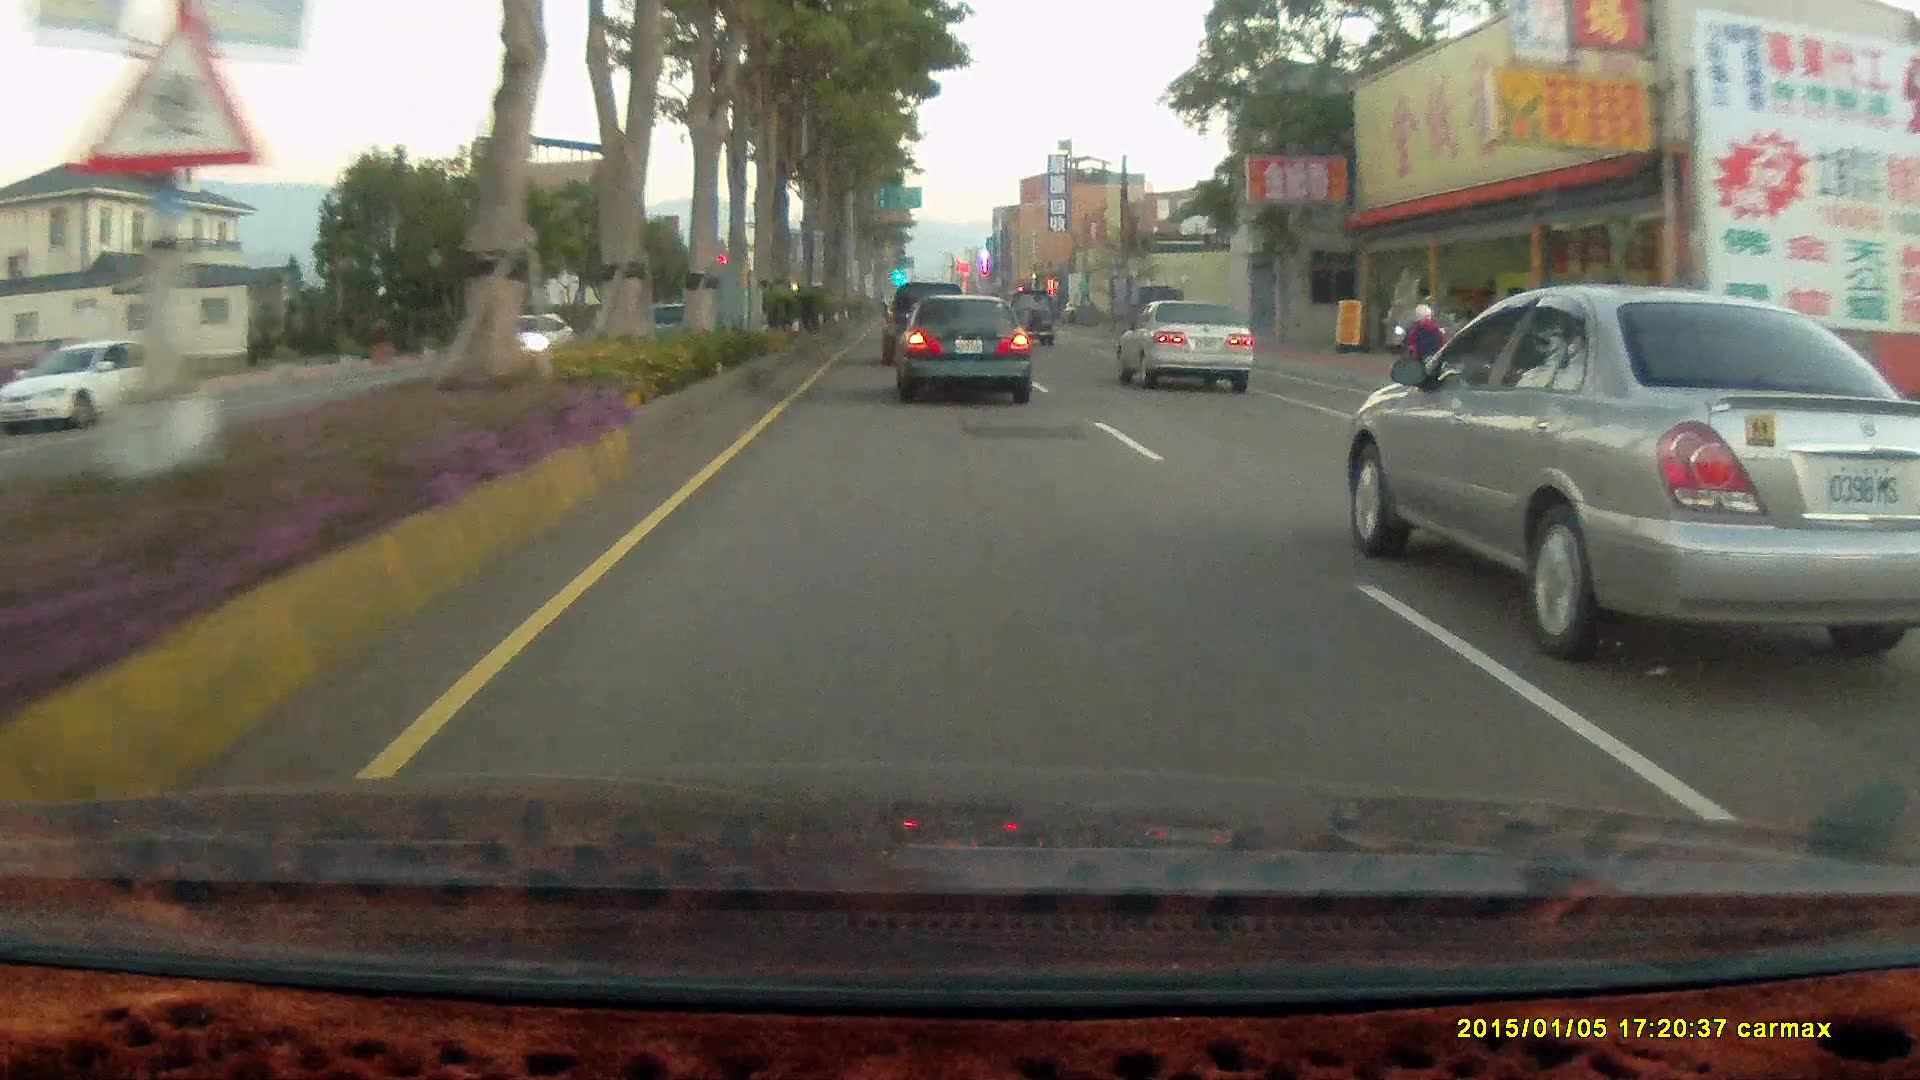rider: (1382, 289, 1460, 433), (1396, 303, 1454, 412)
vehicle: (1341, 289, 1920, 640), (3, 342, 187, 439), (0, 336, 184, 433), (893, 295, 1035, 409), (891, 293, 1032, 405), (1112, 297, 1254, 393), (1123, 301, 1259, 393), (883, 283, 973, 366), (881, 280, 964, 367), (485, 309, 571, 363), (1003, 285, 1055, 348), (1126, 283, 1182, 337)
